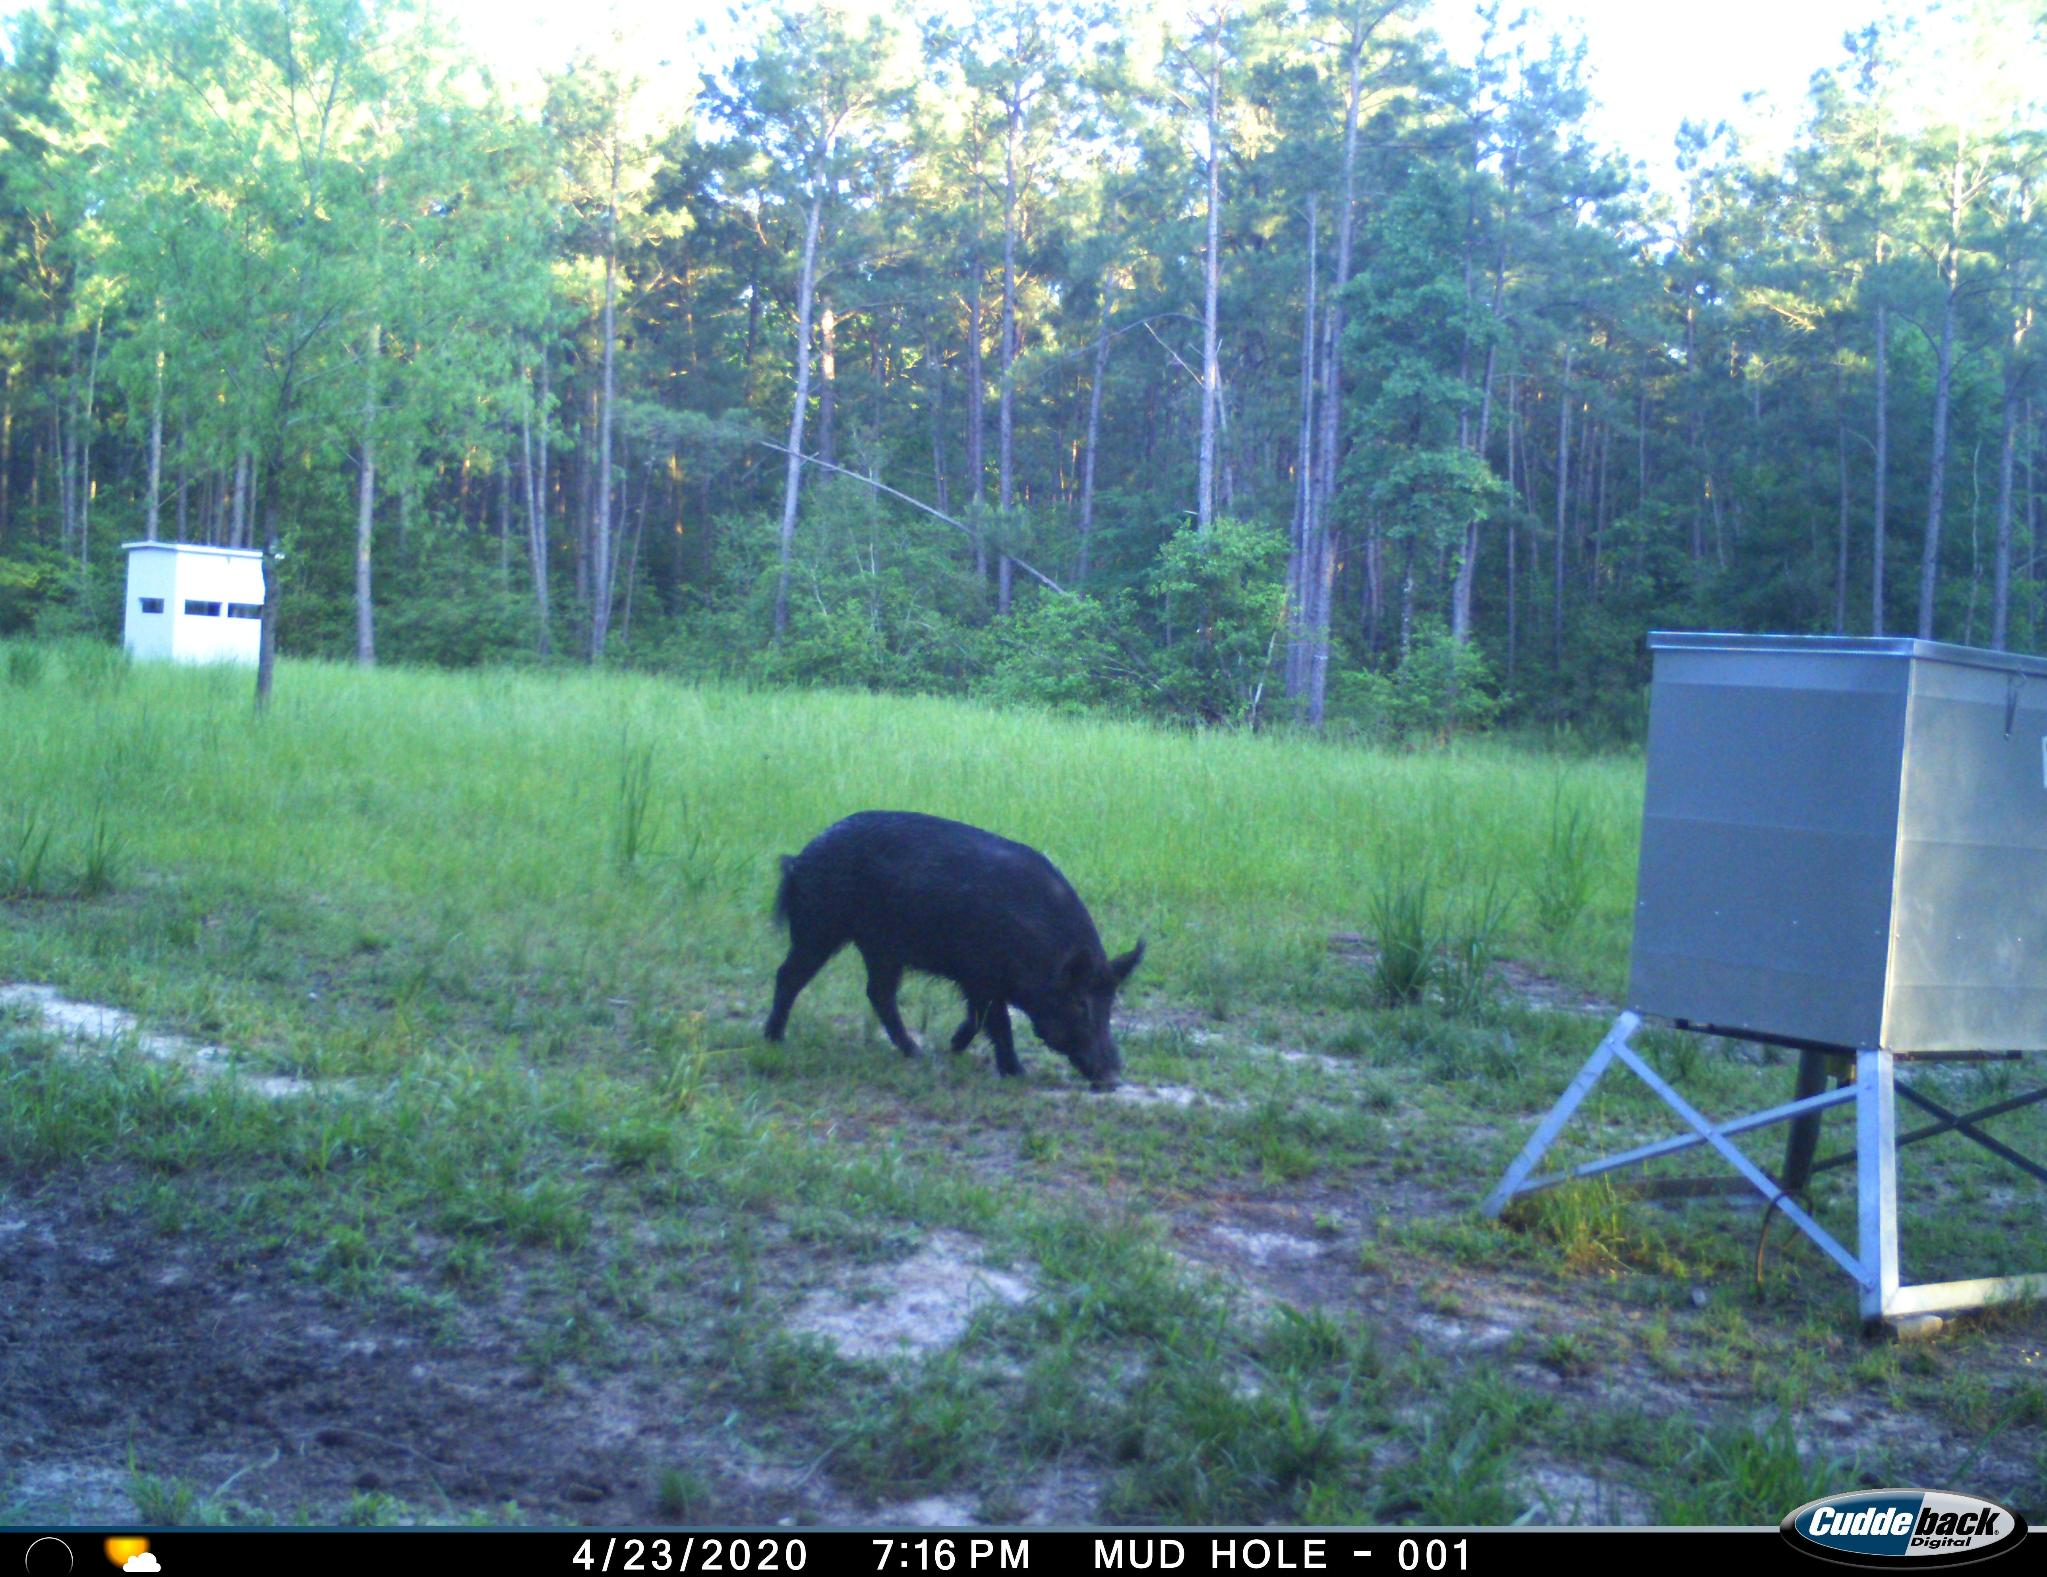Hog: (757, 803, 1151, 1108)
